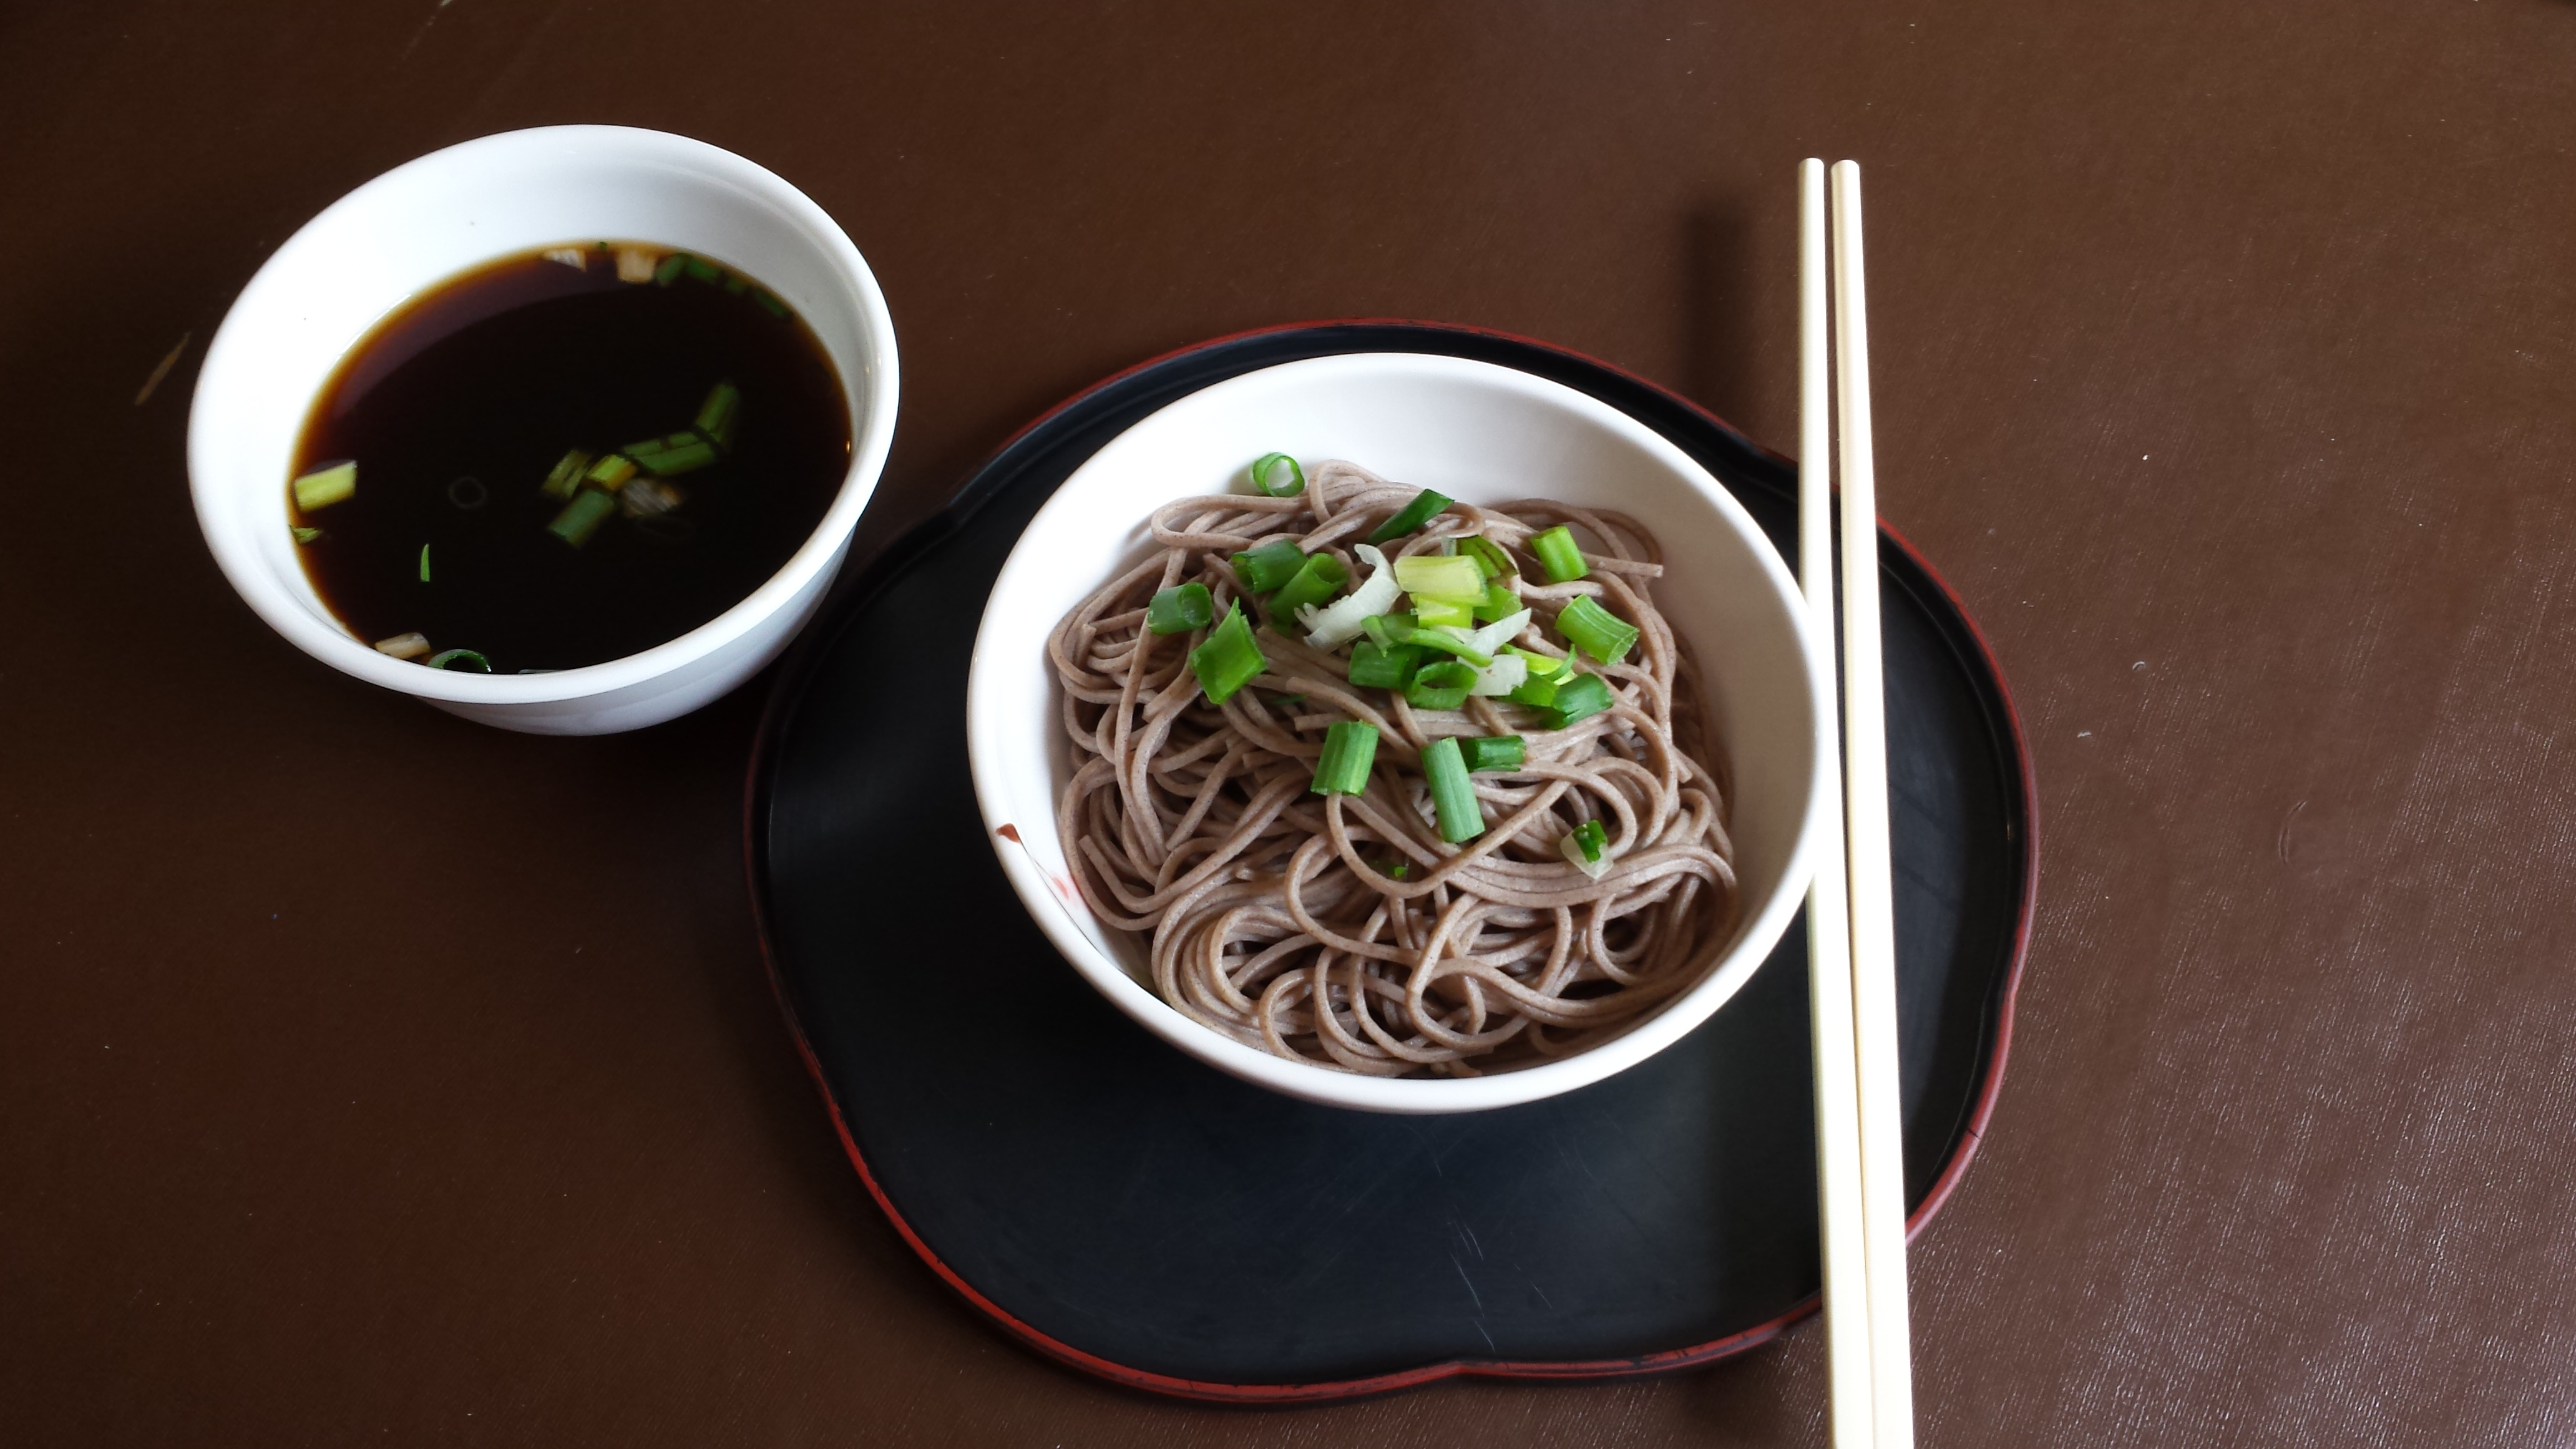Soba: (1051, 456, 1775, 1070)
